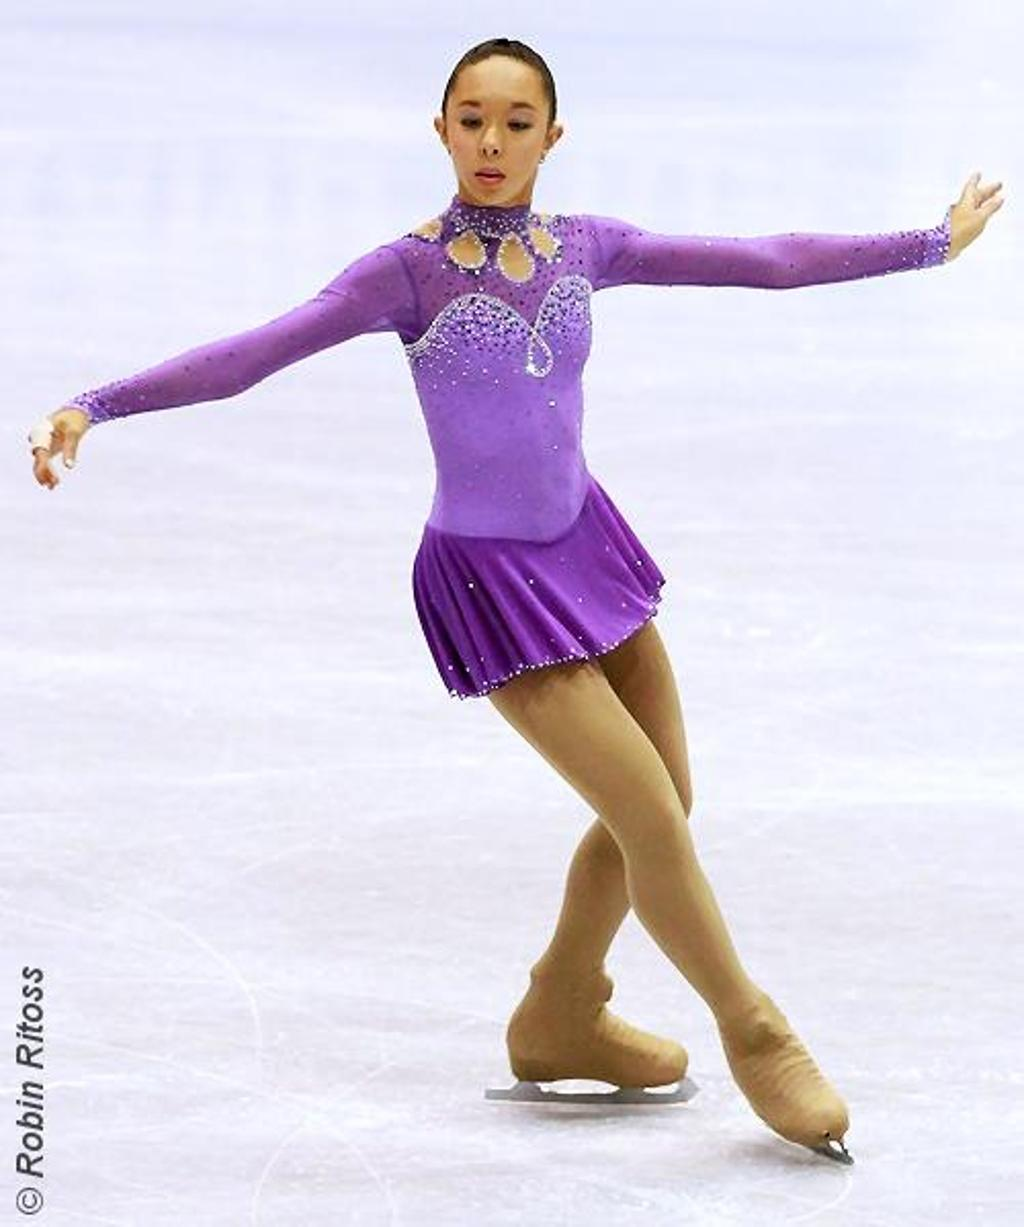face: (444, 55, 552, 199)
